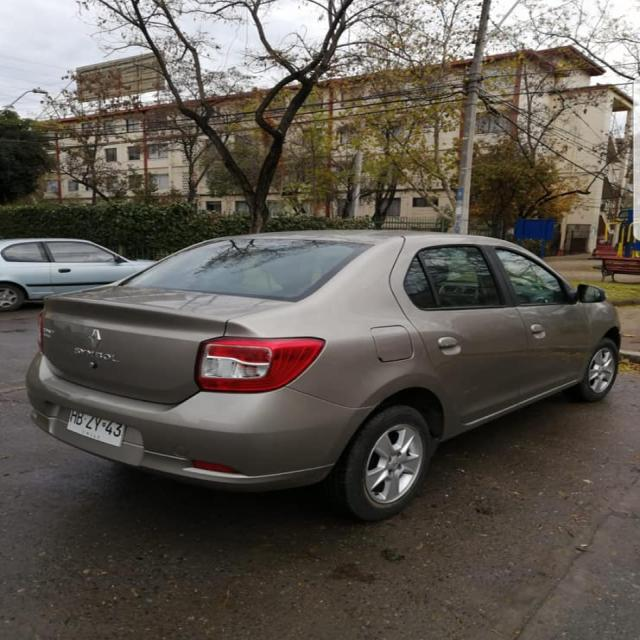patente: (65, 409, 125, 447)
